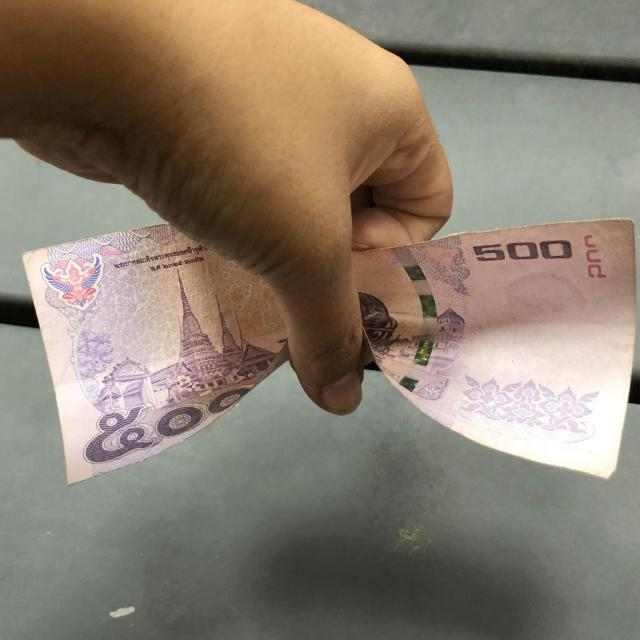THAI500: (354, 219, 635, 478), (24, 224, 286, 484)
